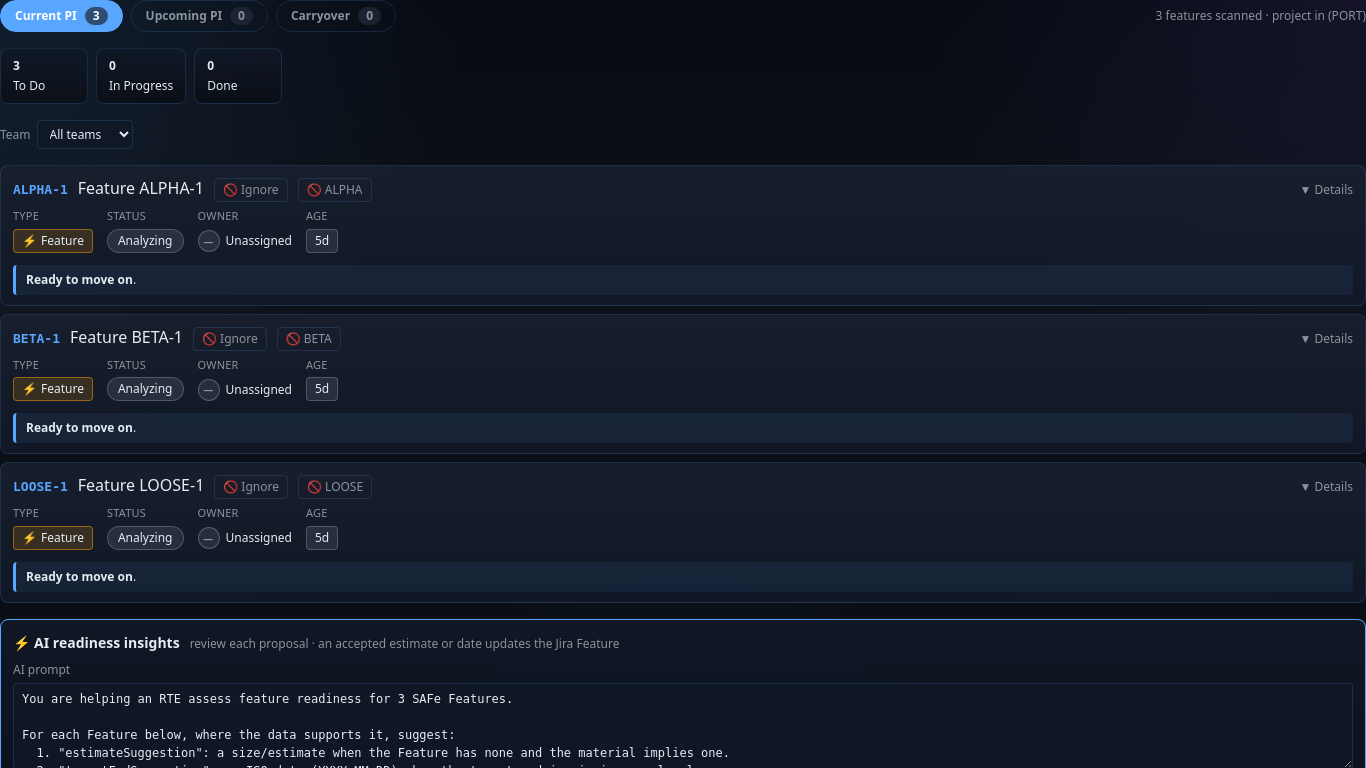
it: ReadinessPanel › offers a team filter built from the roster and narrows the listing to the chosen team
The width and height of the screenshot is (1366, 768).
Expected: the link "ALPHA-1" is shown, x1=13 y1=180 x2=68 y2=200
Expected: the link "BETA-1" is shown, x1=13 y1=328 x2=60 y2=348
Select "Alpha" in the dropdown named "Filter by team" at (85, 134), box x1=37 y1=120 x2=133 y2=149
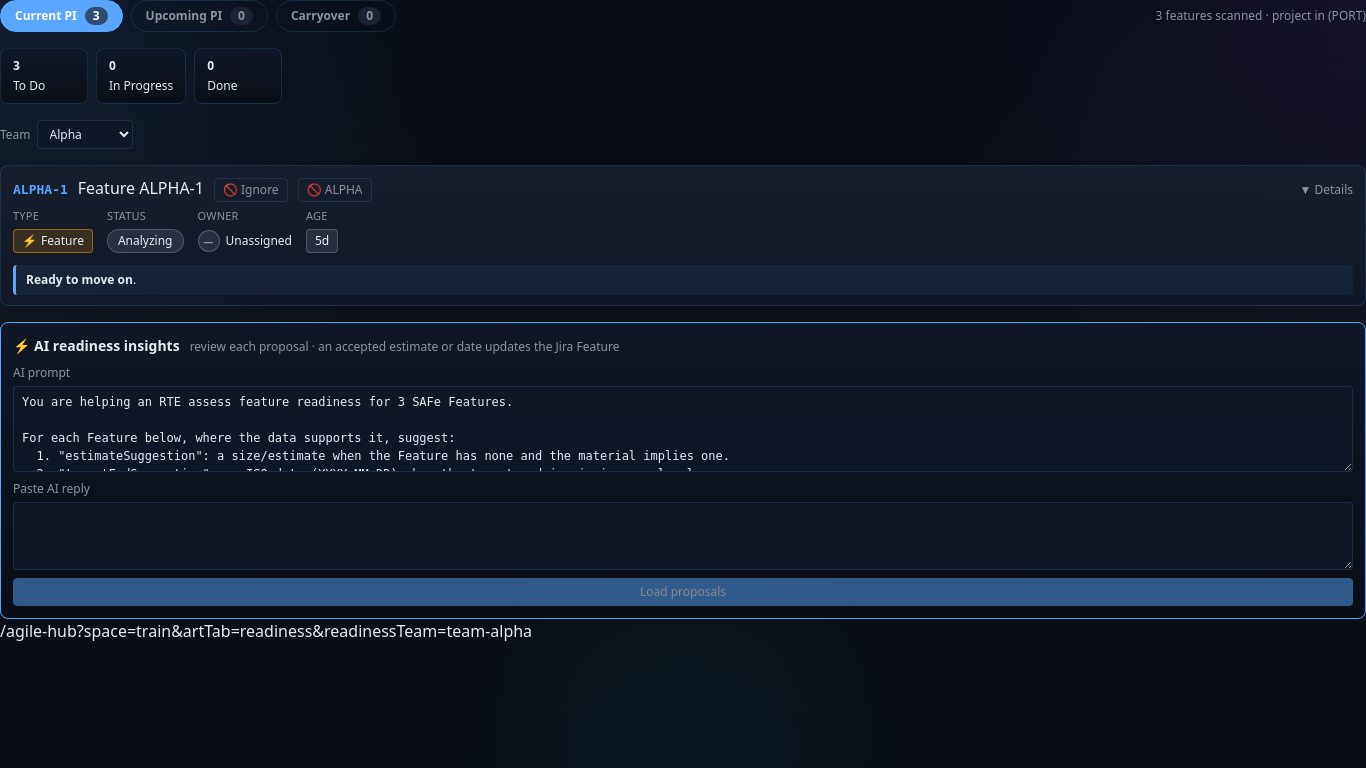
Expected: the link "BETA-1" is gone
Expected: the link "LOOSE-1" is gone
Expected: the text with test id "location-probe" shows "readinessTeam=team-alpha", x1=0 y1=620 x2=532 y2=642
